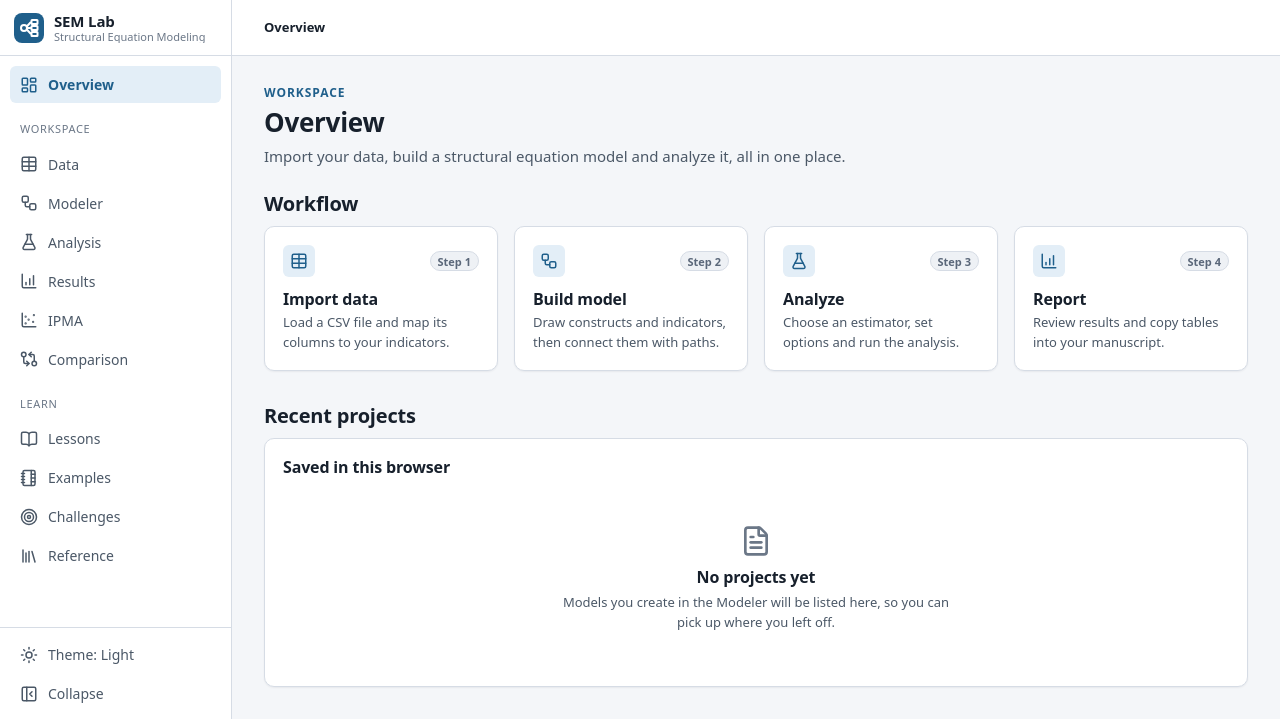
theme › cycles light, dark, system and sets data-theme on <html>
The image size is (1280, 719).
Step 1. Click the button "Theme: Light" → (116, 654), box [10,636,221,673]
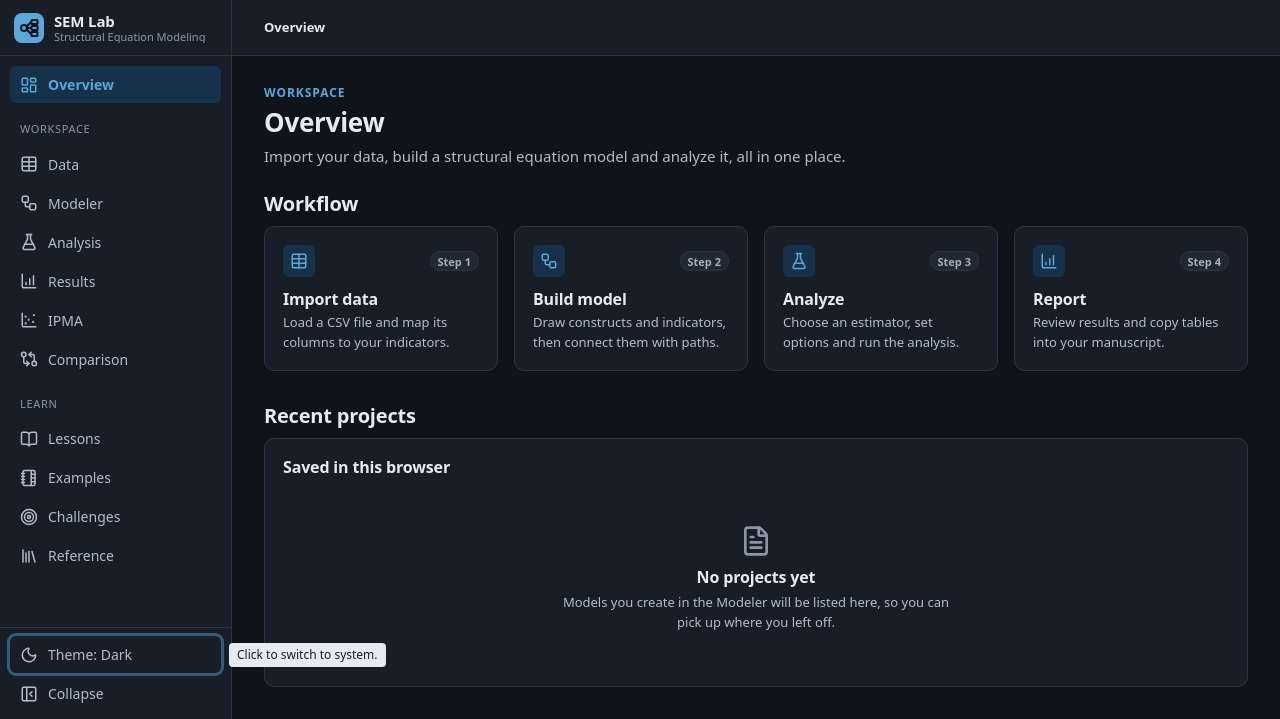
Check: the button "Theme: Dark" is shown
Step 2. Click the button "Theme: Dark" → (116, 654), box [10,636,221,673]
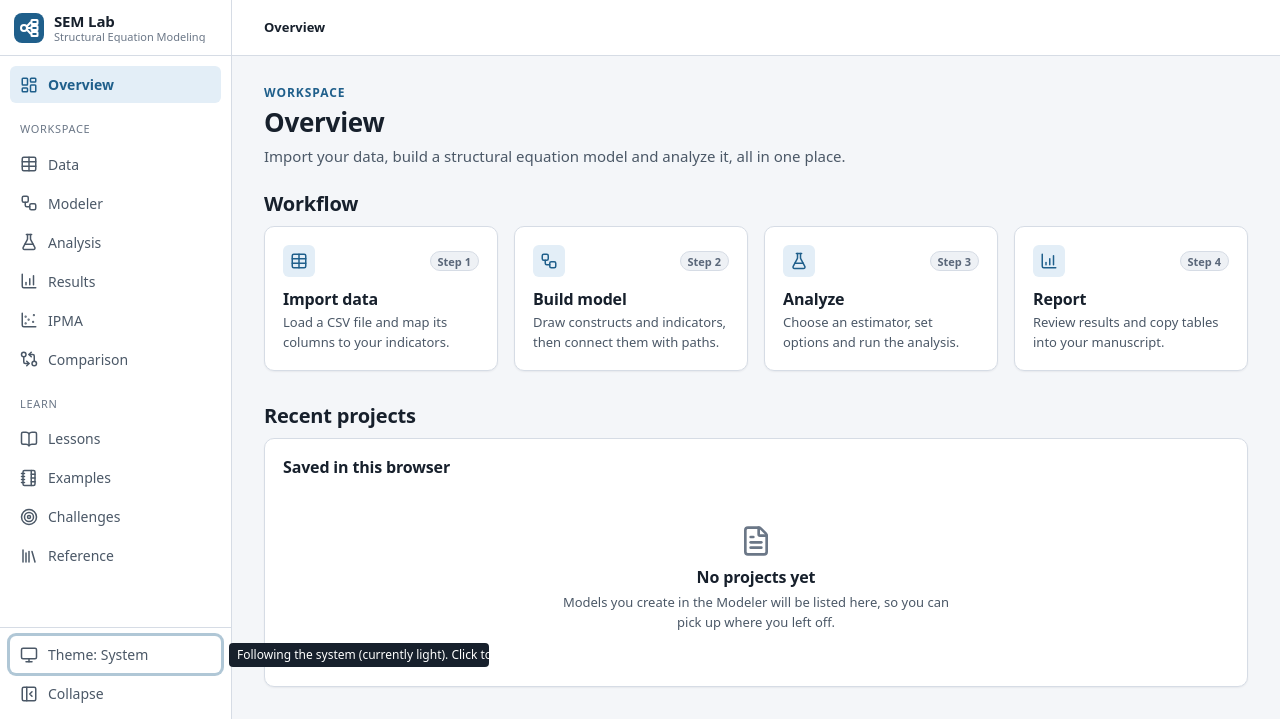
Check: the button "Theme: System" is shown
Step 3. Click the button "Theme: System" → (116, 654), box [10,636,221,673]
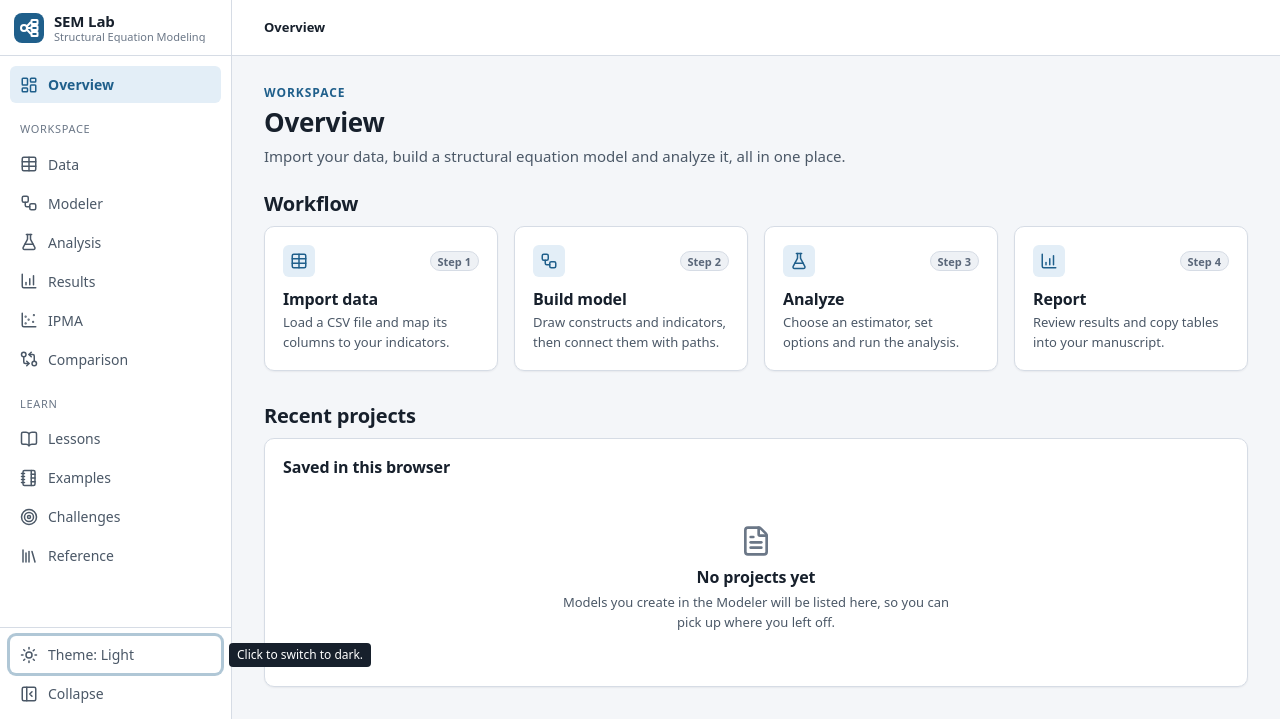
Check: the button "Theme: Light" is shown, box [10,636,221,673]
